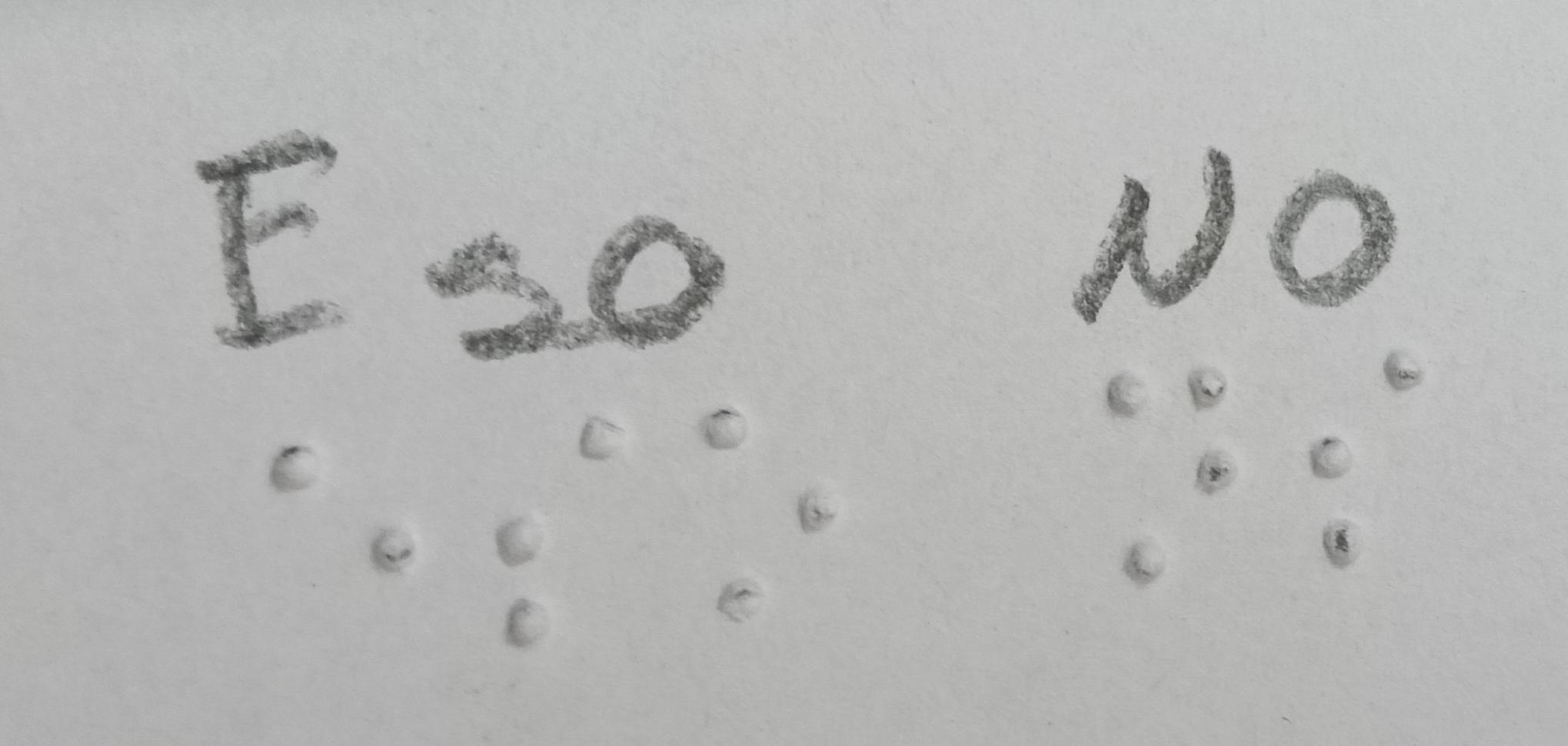e: (261, 416, 432, 629)
n: (1082, 341, 1273, 613)
o: (679, 381, 860, 651)
s: (463, 391, 649, 669), (1292, 343, 1460, 601)
